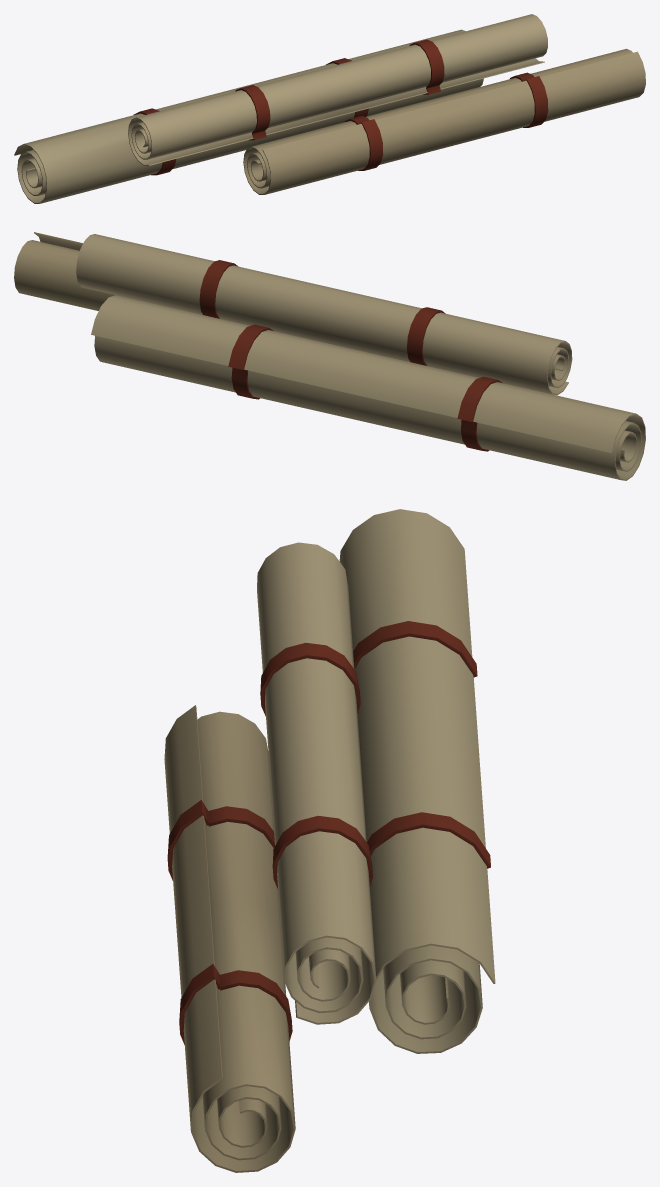
The model's file is rolled-maps.glb.
3 views of the same model, one above another, from view 1: azimuth 30°, elevation 25°; view 2: azimuth 150°, elevation 25°; view 3: azimuth 270°, elevation 25° (orthographic). The views are drawn at different scales.
Parts seen in each view (by area): view 1: base; view 2: base; view 3: base.
Part boxes in pixels (left/top/right/bottom): base: left=14, top=14, right=645, bottom=203; base: left=14, top=232, right=645, bottom=480; base: left=164, top=509, right=495, bottom=1172.
Size of the model in its own units: 0.5313 by 0.0774 by 0.1351.
